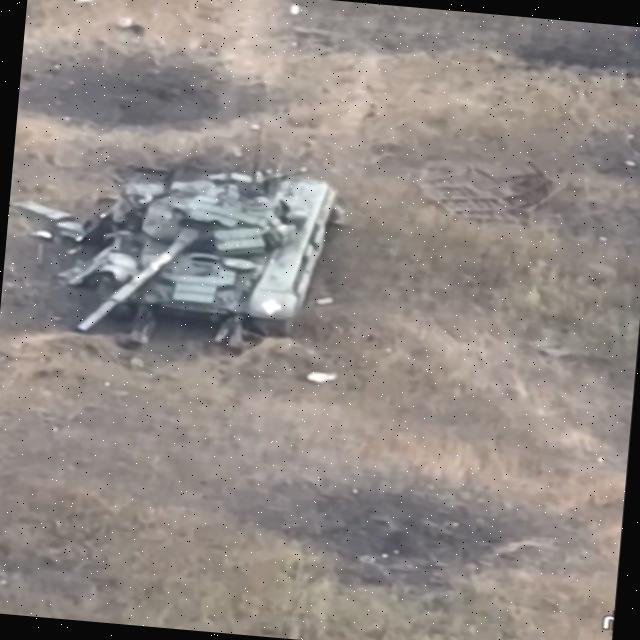MBT: (75, 147, 344, 360)
